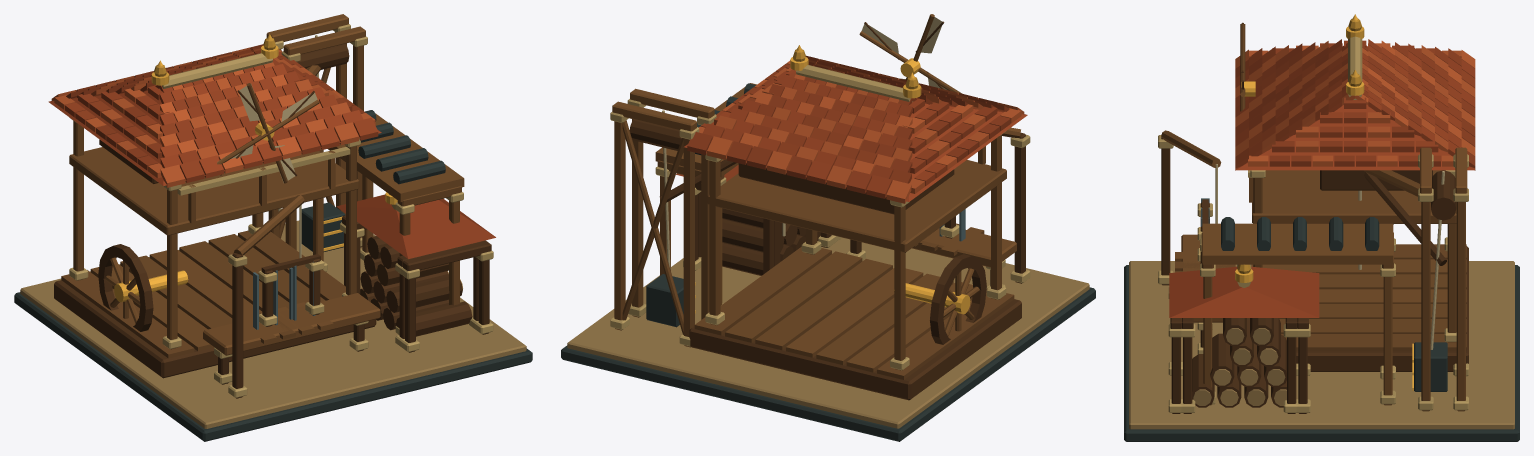
3 renders of one model, left to right at view 1: azimuth 30°, elevation 25°; view 2: azimuth 150°, elevation 25°; view 3: azimuth 270°, elevation 25°, orthographic. The views are drawn at different scales.
Parts seen in each view (by area): view 1: lumber_13_structure, lumber_13_metal; view 2: lumber_13_structure, lumber_13_metal; view 3: lumber_13_structure, lumber_13_metal.
Boxes of the visible parts, x1=… form: lumber_13_structure: x1=14, y1=14, x2=532, y2=441; lumber_13_metal: x1=114, y1=34, x2=397, y2=302; lumber_13_structure: x1=561, y1=14, x2=1095, y2=441; lumber_13_metal: x1=695, y1=45, x2=970, y2=314; lumber_13_structure: x1=1124, y1=18, x2=1519, y2=441; lumber_13_metal: x1=1235, y1=14, x2=1413, y2=390.
Size of the model in its own units: 5.6 by 4.75 by 5.6.
